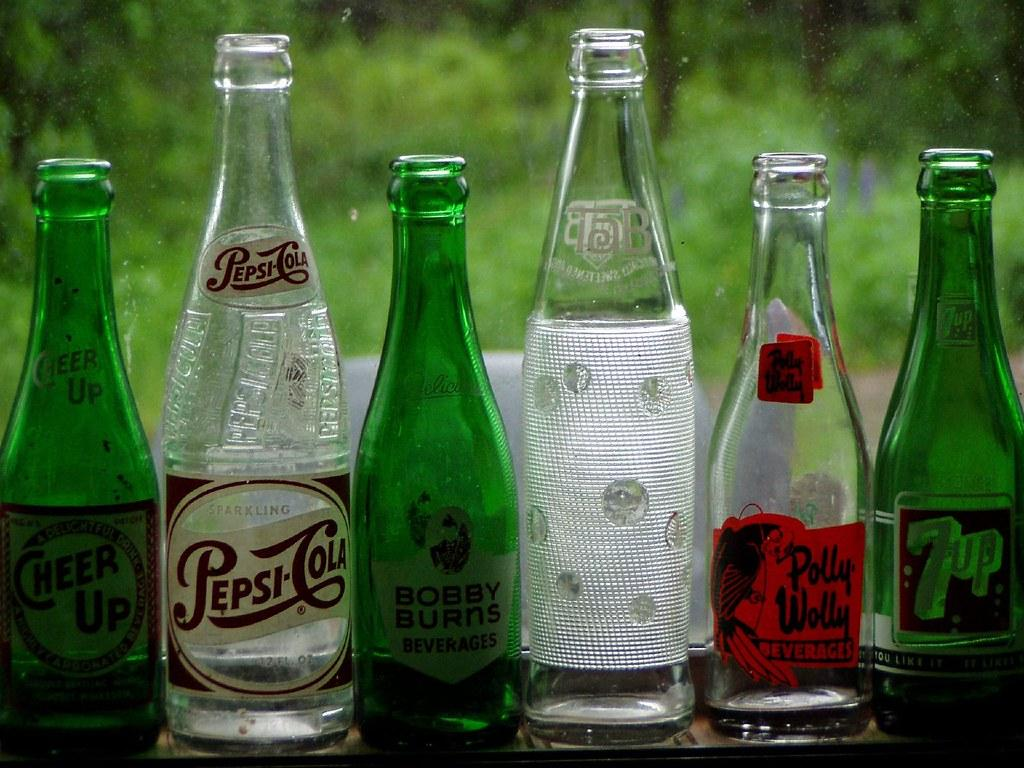bottle: (161, 33, 355, 755), (521, 27, 700, 749), (351, 154, 523, 752), (703, 152, 876, 742), (1, 157, 163, 760), (872, 147, 1024, 740)
